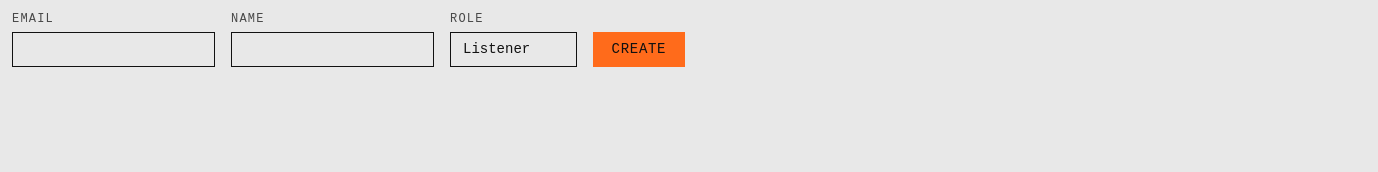
Test: NewUserForm › submits email, name, and role; clears and confirms on success
The image size is (1378, 172).
Type "Guest@Example.com" into the field labelled "Email" at (114, 49), box [12,32,215,67]
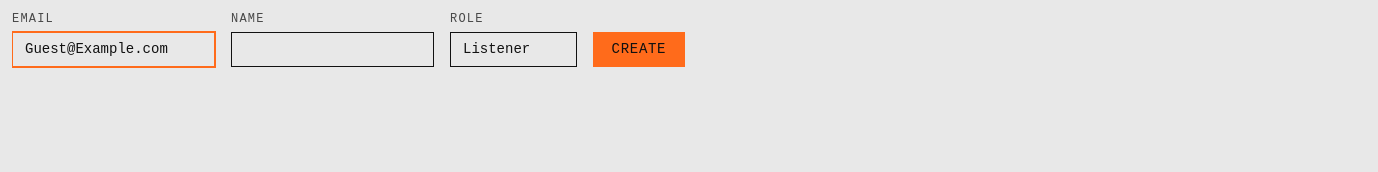
Type "Guest" into the field labelled "Name" at (332, 49), box [231,32,434,67]
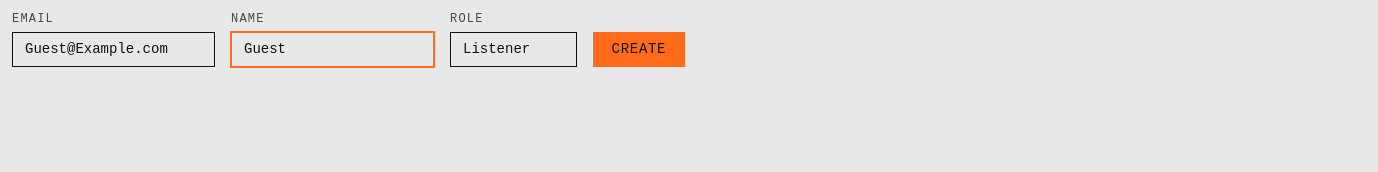
Select "Artist" in the dropdown labelled "Role" at (514, 49), box [450,32,577,67]
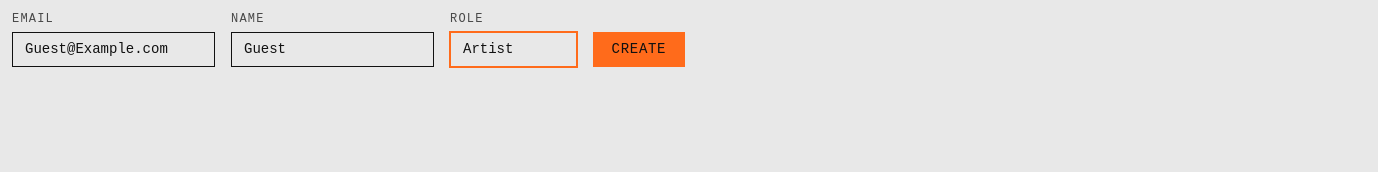
Click the button "Create" at (639, 49), box [593,32,685,67]
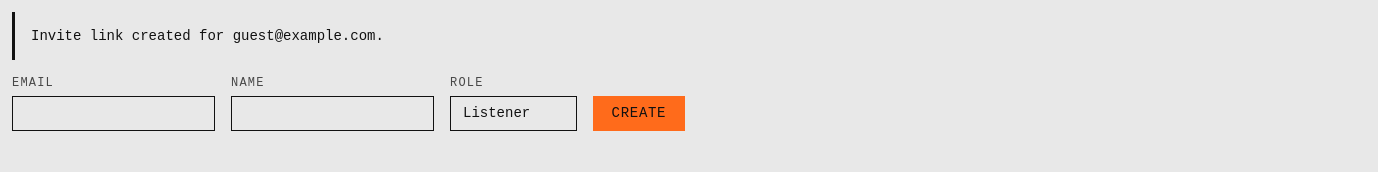
Expected: the field labelled "Email" is empty, [12,96,215,131]
Now the text "Invite link created for guest@example.com." is shown, box [12,12,1377,60]
